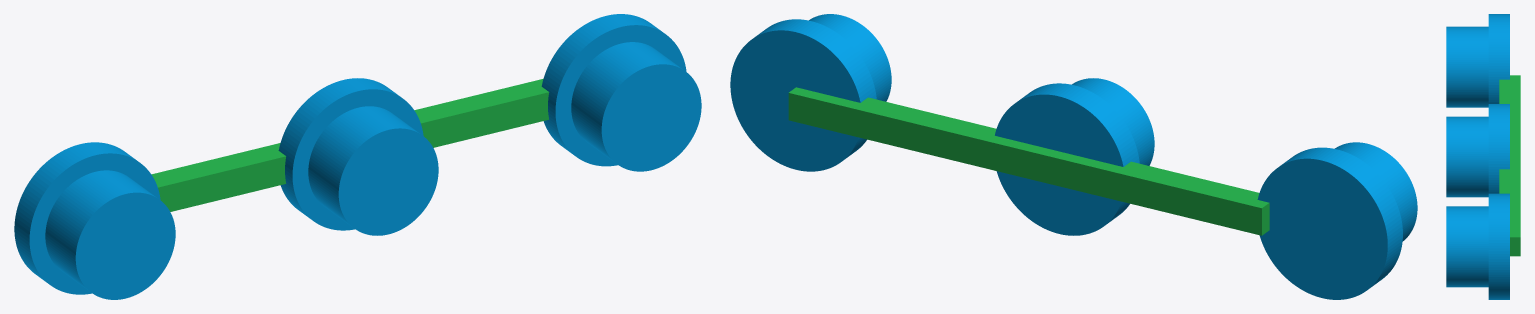
File: button.obj
3 views of the same model, side by side, from view 1: azimuth 30°, elevation 25°; view 2: azimuth 150°, elevation 25°; view 3: azimuth 270°, elevation 25° (orthographic). The views are drawn at different scales.
Parts seen in each view (by area): view 1: Object.1; view 2: Object.1; view 3: Object.1.
Boxes of the visible parts, x1,y1,x2,y2 form: Object.1: (14, 14, 701, 299); Object.1: (730, 14, 1417, 299); Object.1: (1446, 14, 1520, 299).
Bounding box in the file's own units: 25 × 5 × 3.5.
